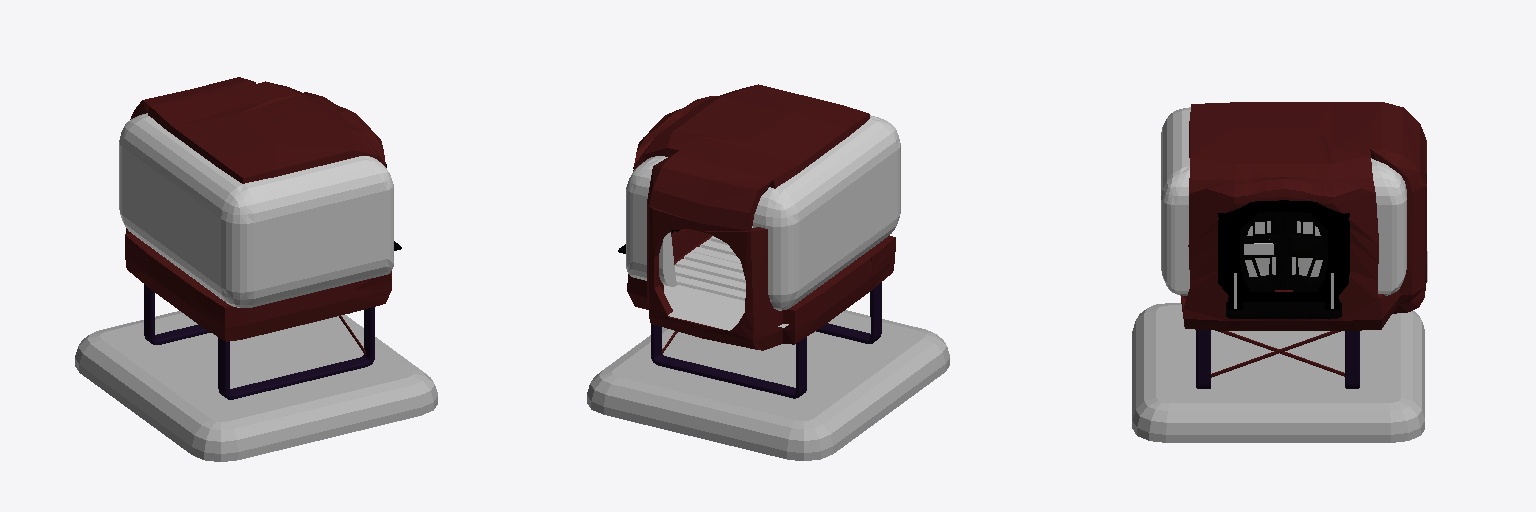
File: airlock2.obj
3 renders of one model, left to right at view 1: azimuth 30°, elevation 25°; view 2: azimuth 150°, elevation 25°; view 3: azimuth 270°, elevation 25°, orthographic.
Visible parts, largest first — view 1: Cube.011, Cutter.005_Cutter.002, Cube.013_Cube.014, Circle.002; view 2: Cube.013_Cube.014, Cutter.005_Cutter.002, Cube.011, Plane.008_Plane.003, Circle.002; view 3: Cube.013_Cube.014, Cutter.005_Cutter.002, Cube.011, Plane.012, Cube.014_Cube.015, Cube.015_Cube.016, Cube, Circle.002, Plane.009, Plane.004.
Boxes of the visible parts, x1,y1,x2,y2 form: Cube.011: [119, 113, 393, 307]; Cutter.005_Cutter.002: [75, 311, 437, 461]; Cube.013_Cube.014: [125, 77, 391, 341]; Circle.002: [144, 284, 374, 399]; Cube.013_Cube.014: [627, 84, 895, 350]; Cutter.005_Cutter.002: [587, 310, 949, 460]; Cube.011: [626, 115, 900, 310]; Plane.008_Plane.003: [664, 226, 788, 330]; Circle.002: [651, 282, 881, 398]; Cube.013_Cube.014: [1181, 102, 1426, 330]; Cutter.005_Cutter.002: [1132, 303, 1424, 442]; Cube.011: [1161, 107, 1406, 295]; Plane.012: [1217, 200, 1349, 309]; Cube.014_Cube.015: [1252, 212, 1315, 291]; Cube.015_Cube.016: [1267, 212, 1300, 289]; Cube: [1240, 218, 1327, 291]; Circle.002: [1196, 330, 1359, 388]; Plane.009: [1226, 302, 1341, 318]; Plane.004: [1211, 331, 1344, 377].
Bounding box in the file's own units: 2.91 × 2.95 × 3.08.